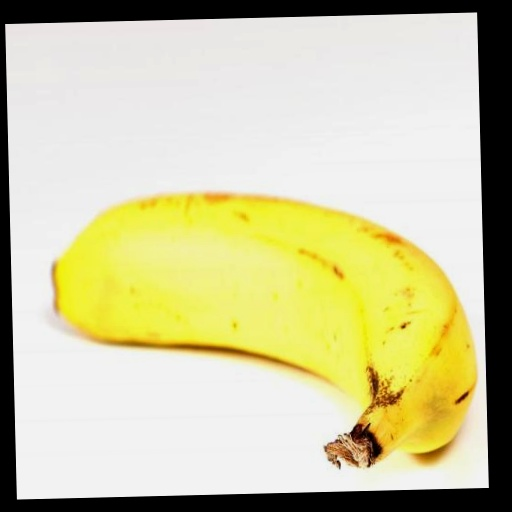fruit: (54, 194, 476, 467)
